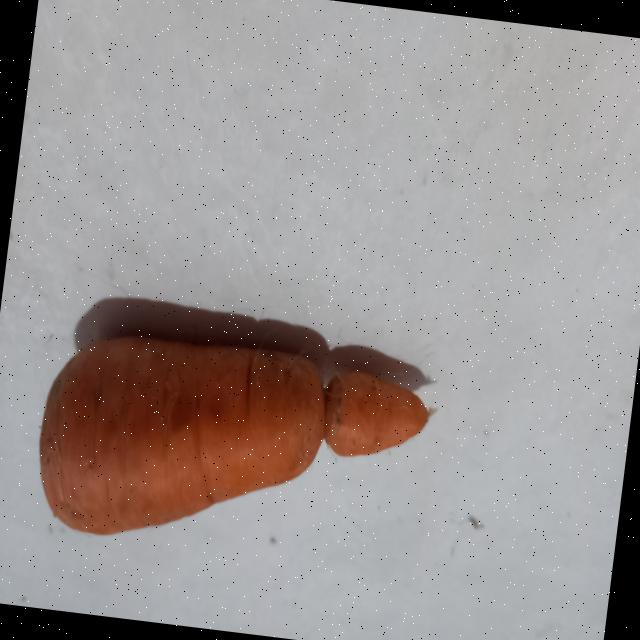carrot: (38, 335, 427, 534)
